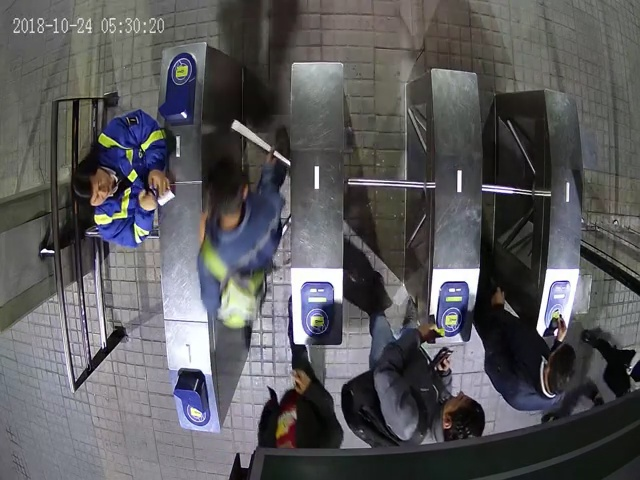Chaleco_azul: (72, 108, 172, 247)
